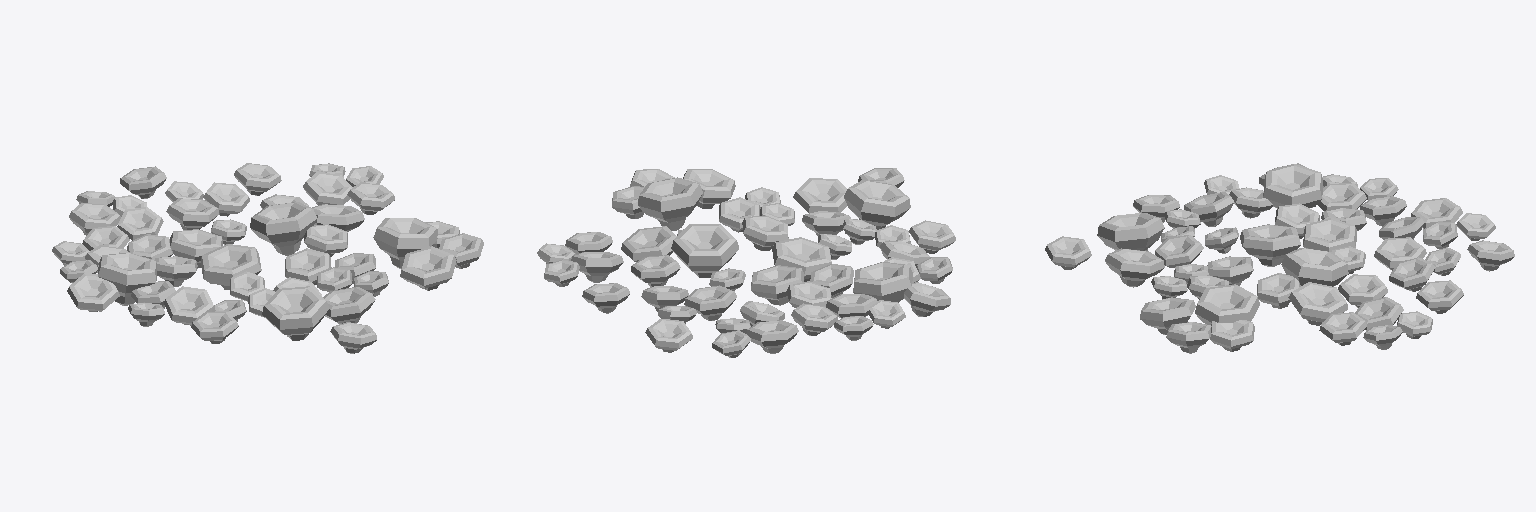
Rendered from Lichen.obj.
The picture shows the model from 3 angles: view 1: azimuth 30°, elevation 25°; view 2: azimuth 150°, elevation 25°; view 3: azimuth 270°, elevation 25°; orthographic projection.
Parts seen in each view (by area): view 1: Cylinder.020, Cylinder.017, Cylinder.023, Cylinder.047, Cylinder.008, Cylinder.024, Cylinder.032, Cylinder.021, Cylinder.005, Cylinder.009, Cylinder.026, Cylinder.014 (+26 smaller); view 2: Cylinder.017, Cylinder.023, Cylinder.020, Cylinder.047, Cylinder.008, Cylinder.021, Cylinder.009, Cylinder.018, Cylinder.024, Cylinder.014, Cylinder.011, Cylinder.029 (+27 smaller); view 3: Cylinder.047, Cylinder.023, Cylinder.020, Cylinder.017, Cylinder.008, Cylinder.018, Cylinder.021, Cylinder.009, Cylinder.024, Cylinder.016, Cylinder.019, Cylinder.036 (+28 smaller).
Part boxes in pixels (bbox=[...]): Cylinder.020: bbox=[262, 286, 329, 340]; Cylinder.017: bbox=[250, 202, 316, 255]; Cylinder.023: bbox=[373, 218, 437, 269]; Cylinder.047: bbox=[98, 252, 157, 305]; Cylinder.008: bbox=[201, 244, 261, 289]; Cylinder.024: bbox=[400, 246, 456, 290]; Cylinder.032: bbox=[67, 273, 119, 311]; Cylinder.021: bbox=[323, 287, 375, 323]; Cylinder.005: bbox=[164, 286, 214, 325]; Cylinder.009: bbox=[170, 229, 222, 268]; Cylinder.026: bbox=[303, 172, 352, 205]; Cylinder.014: bbox=[166, 198, 218, 229]; Cylinder.017: bbox=[671, 224, 738, 277]; Cylinder.023: bbox=[638, 177, 702, 230]; Cylinder.020: bbox=[844, 180, 910, 229]; Cylinder.047: bbox=[853, 262, 912, 302]; Cylinder.008: bbox=[772, 237, 831, 281]; Cylinder.021: bbox=[793, 178, 846, 212]; Cylinder.009: bbox=[751, 265, 804, 305]; Cylinder.018: bbox=[621, 226, 676, 261]; Cylinder.024: bbox=[683, 169, 735, 208]; Cylinder.014: bbox=[684, 285, 736, 320]; Cylinder.011: bbox=[742, 215, 788, 250]; Cylinder.029: bbox=[746, 320, 798, 353]; Cylinder.047: bbox=[1263, 164, 1322, 208]; Cylinder.023: bbox=[1195, 284, 1259, 324]; Cylinder.020: bbox=[1097, 213, 1164, 250]; Cylinder.017: bbox=[1281, 248, 1348, 286]; Cylinder.008: bbox=[1240, 224, 1300, 266]; Cylinder.018: bbox=[1288, 282, 1347, 325]; Cylinder.021: bbox=[1105, 248, 1164, 287]; Cylinder.009: bbox=[1303, 218, 1356, 251]; Cylinder.024: bbox=[1140, 297, 1195, 334]; Cylinder.016: bbox=[1338, 274, 1387, 307]; Cylinder.019: bbox=[1155, 235, 1203, 267]; Cylinder.036: bbox=[1045, 236, 1091, 269].
Bounding box in the file's own units: 1.7 × 0.2116 × 1.91.